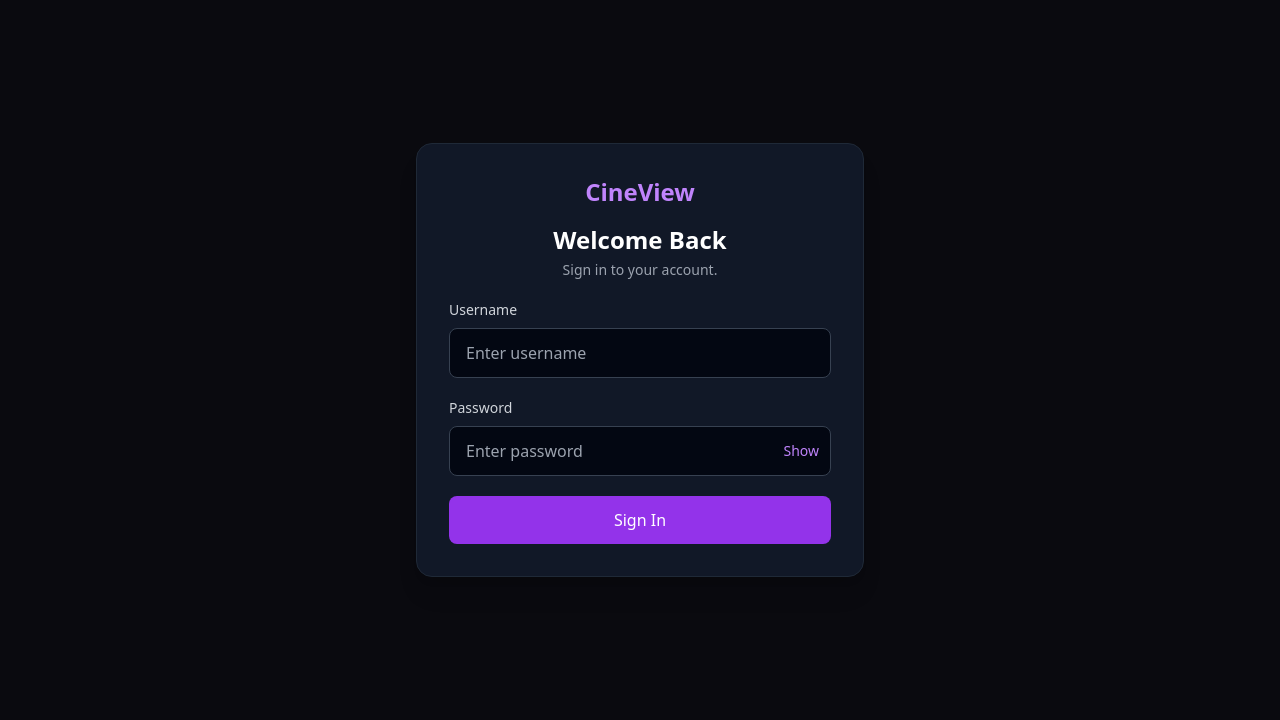
Test: Milestone 2 authentication › redirects back to originally requested page after login
Type "admin" into the field labelled "Username".
click(640, 353); type("admin")  # box [449,328,831,378]
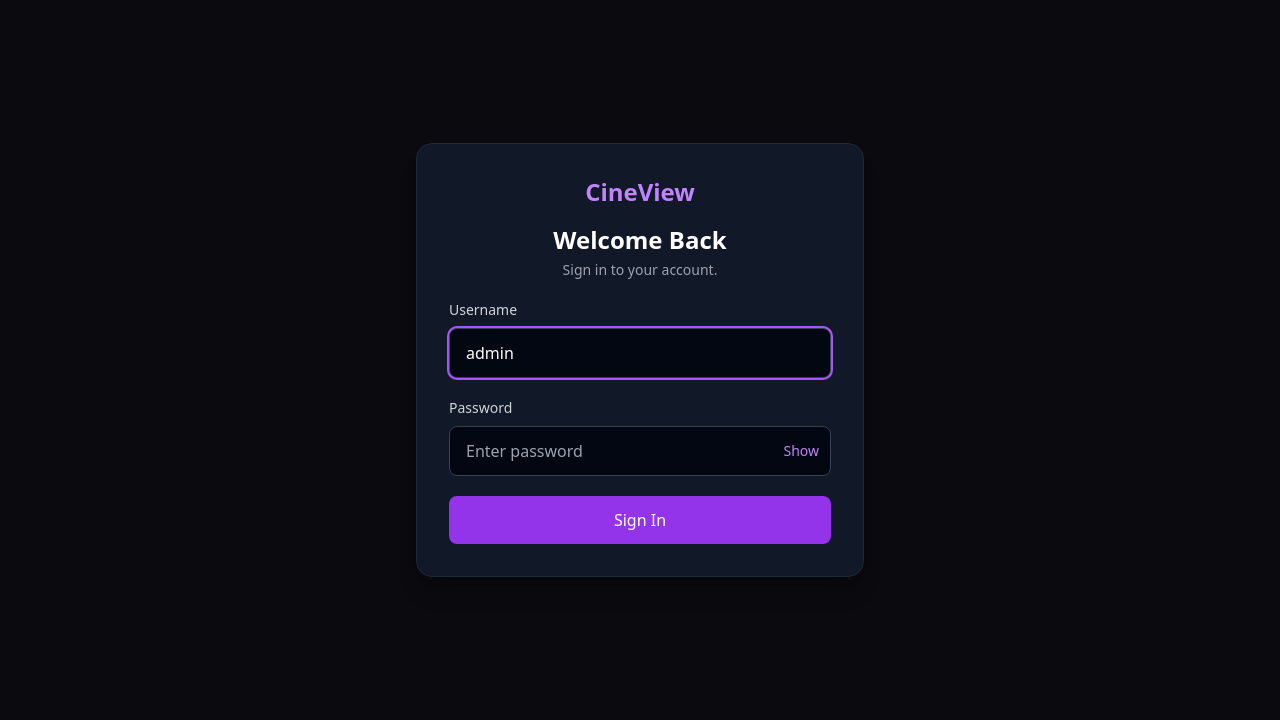
Type "admin" into the password field labelled "Password".
click(640, 451); type("admin")  # box [449,426,831,476]
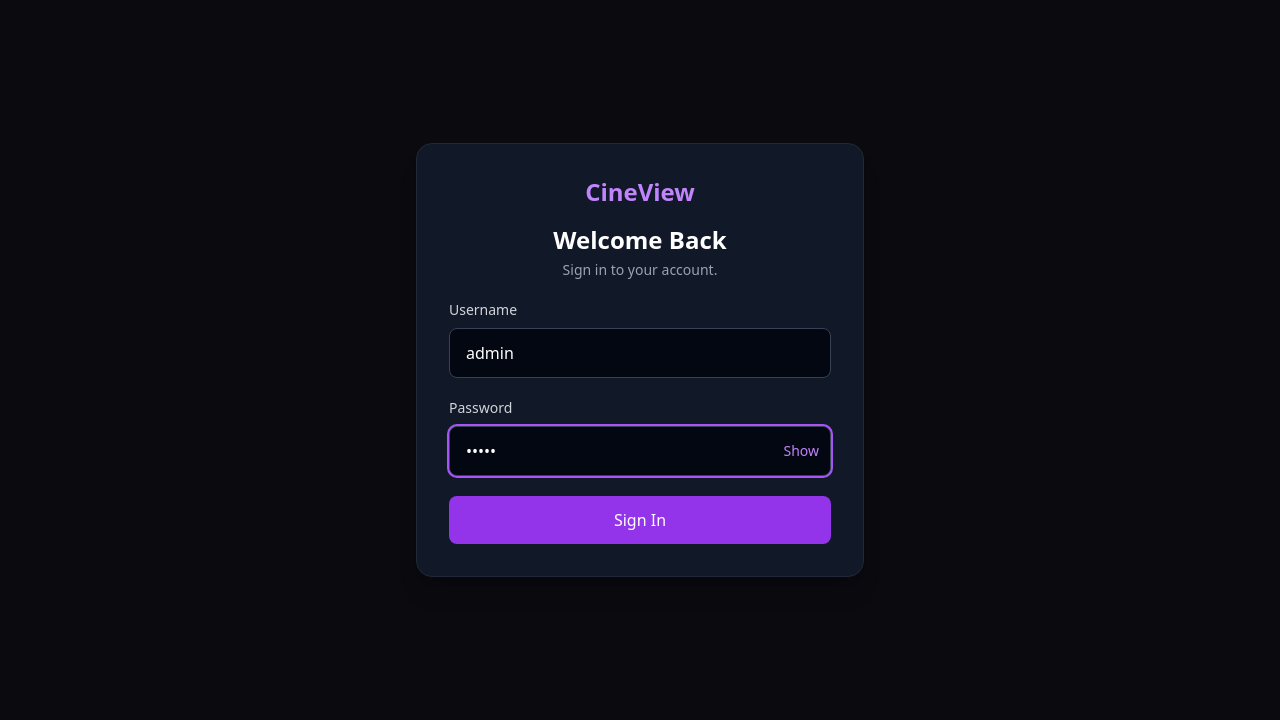
Click the button "Sign In".
click(640, 520)  # box [449,496,831,544]
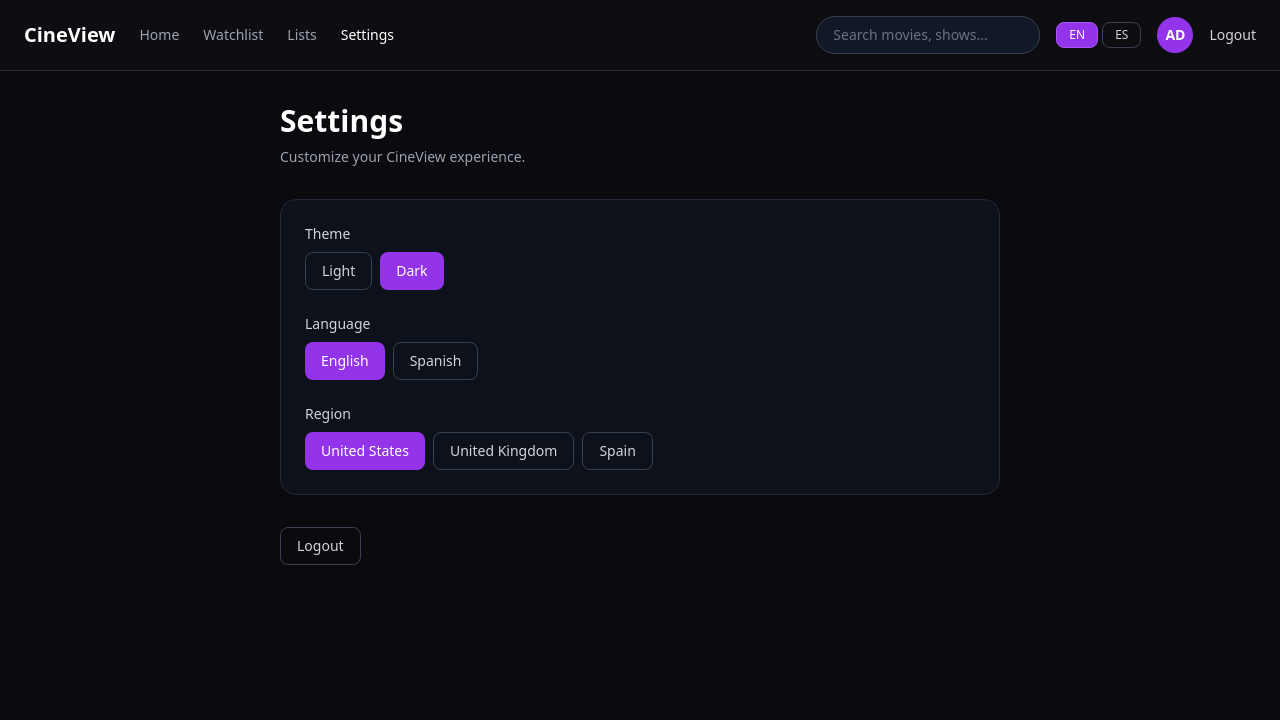
Check: the heading "Settings" is shown, box [280,100,403,141]
